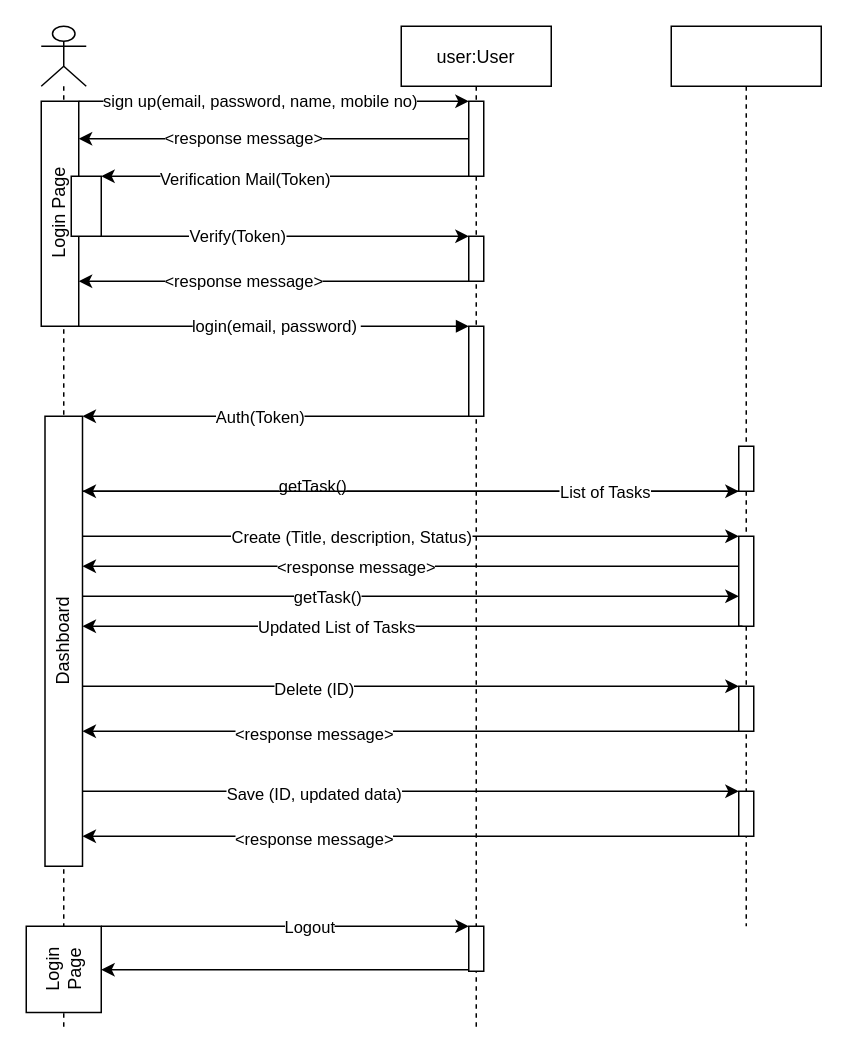
The diagram is 848 pixels wide and 1058 high, and some of its shapes have lost their labels. Here are the shapes that lost their labels. From the top down, the centre of each, then its label:
point 85,205: Email
point 745,475: task:Task
